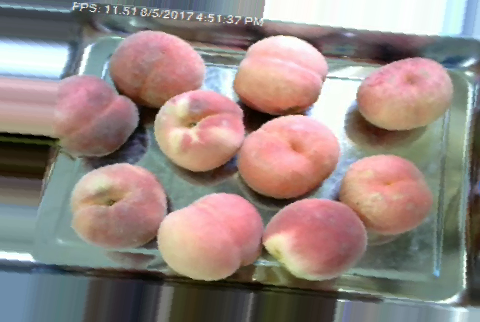Peach: (158, 191, 265, 282), (236, 112, 340, 198), (260, 198, 367, 281), (68, 162, 168, 250), (153, 87, 245, 171), (109, 30, 205, 108), (50, 75, 139, 158), (355, 56, 452, 132), (341, 154, 433, 234), (232, 35, 327, 112)
